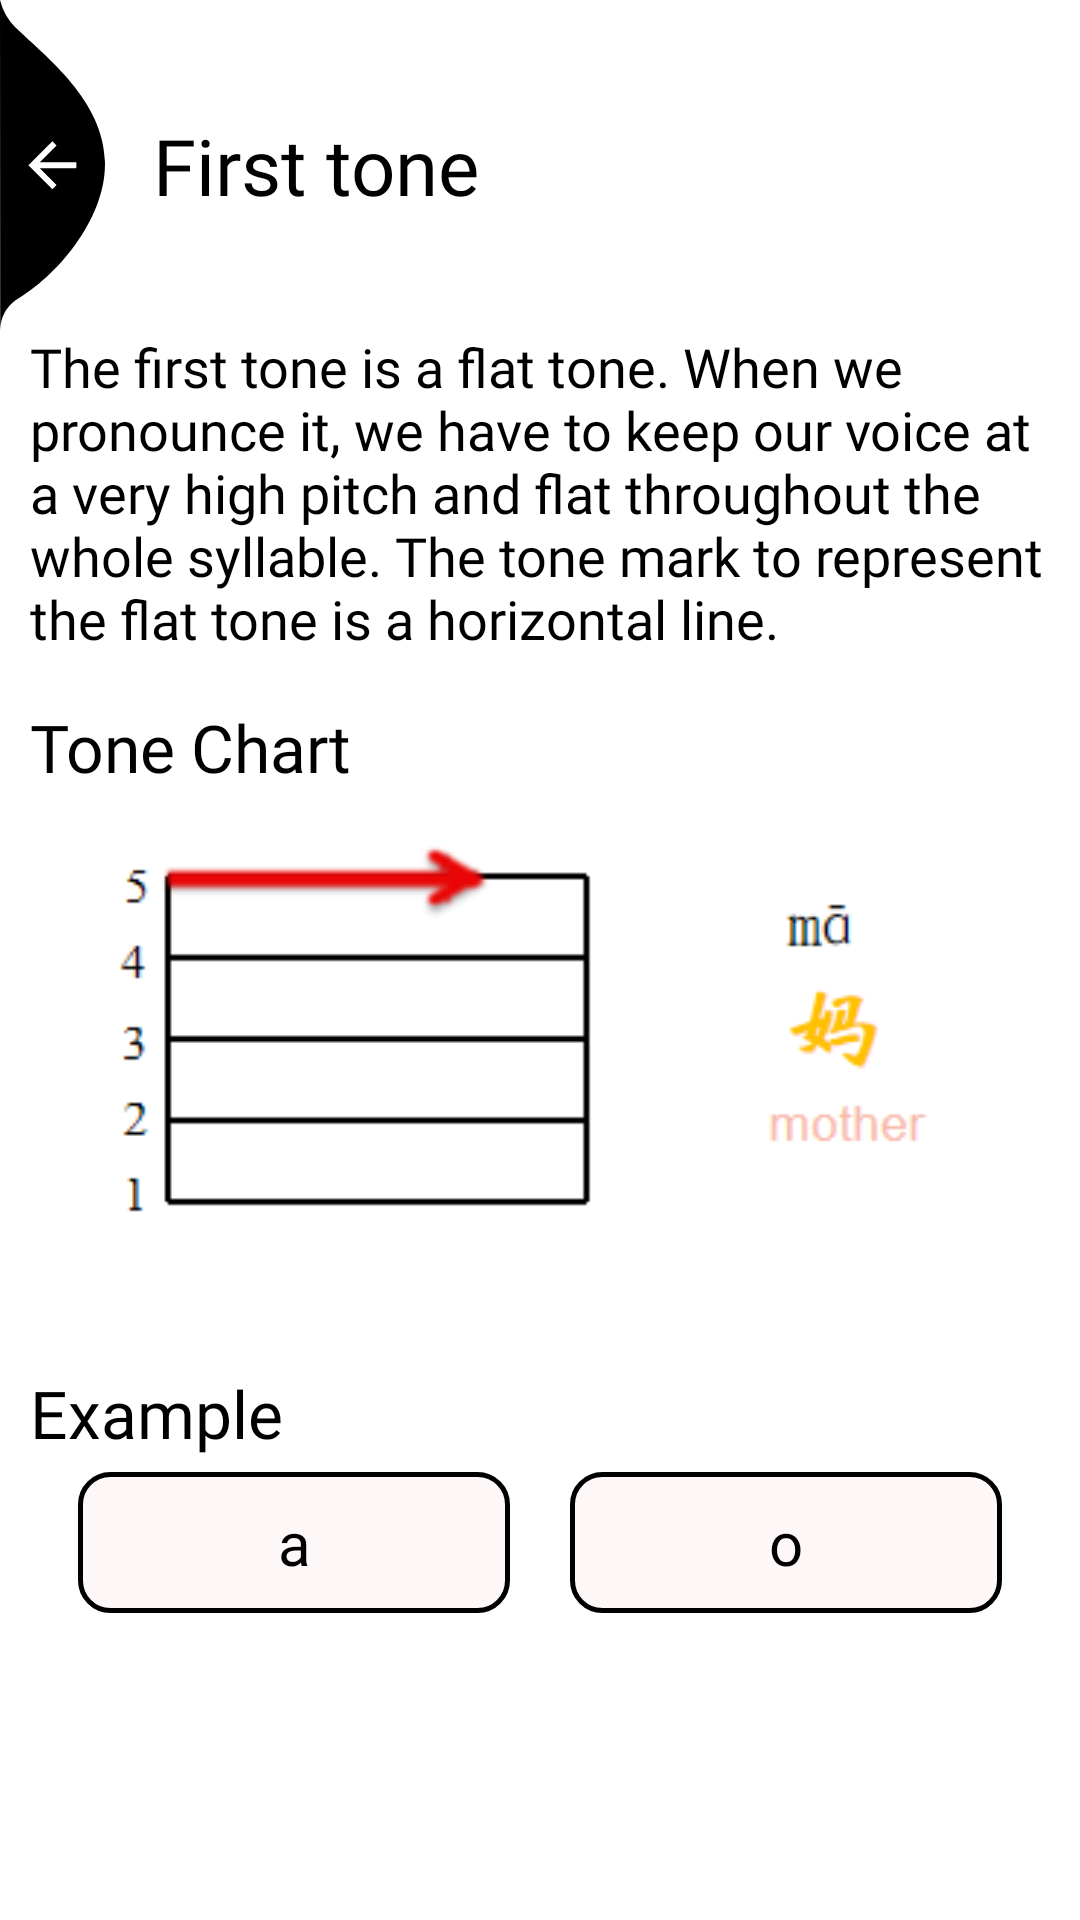

Icon click points for this 1080 x 1920 phone screenshot, format (x,y):
back: (52,164)
